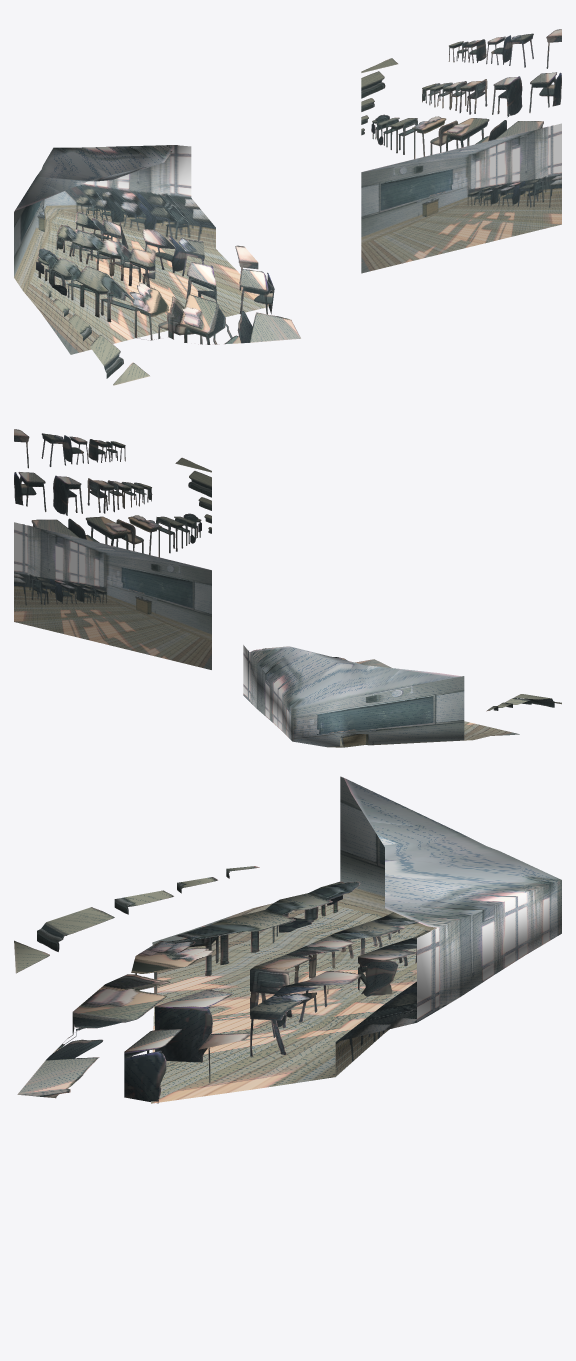
Rendered from bg_class.FBX.
3 renders of one model, top to bottom at view 1: azimuth 30°, elevation 25°; view 2: azimuth 150°, elevation 25°; view 3: azimuth 270°, elevation 25°, orthographic. The views are drawn at different scales.
Parts seen in each view (by area): view 1: bg, map sample; view 2: map sample, bg; view 3: bg.
Part boxes in pixels (x1,y1,x2,y2): bg: (14, 145, 300, 385); map sample: (361, 29, 561, 273); map sample: (14, 429, 211, 669); bg: (243, 645, 561, 747); bg: (14, 776, 561, 1103).
Size of the model in its own units: 250 by 100 by 143.
Materials: 1 (1 with a texture image).
